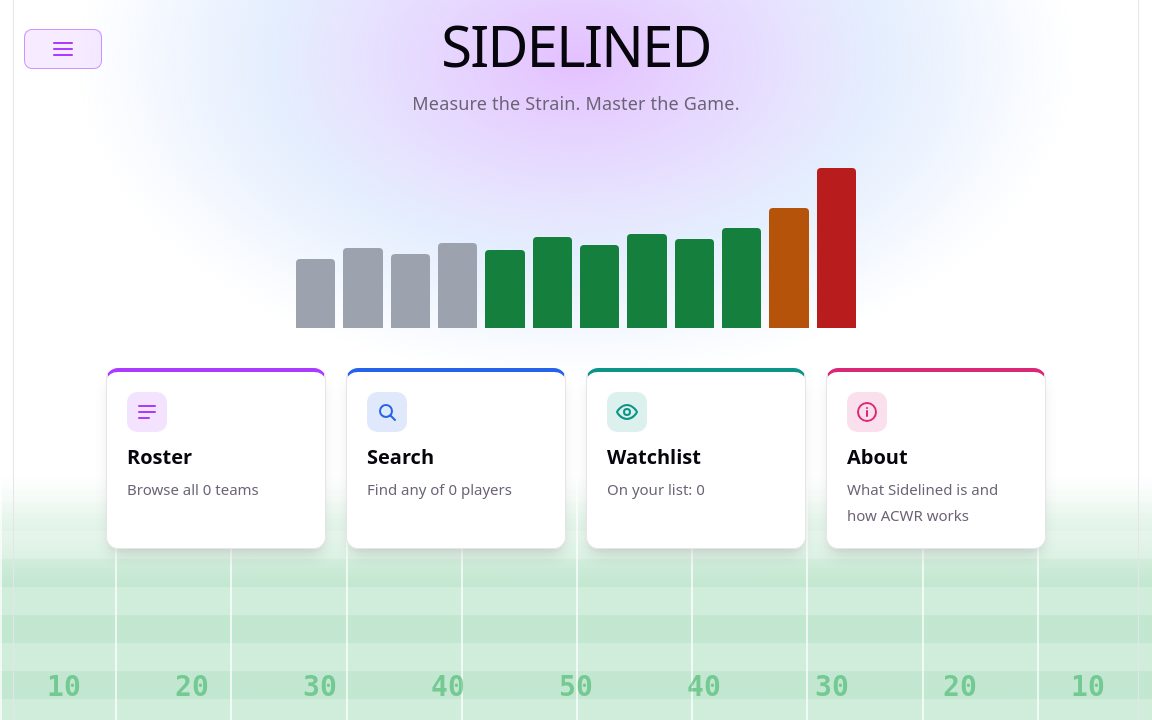
Test: homepage animation › doesn't delay the menu: it opens on the first click after load
Click the button named "Toggle navigation menu": click(63, 49) [24,29,102,69]
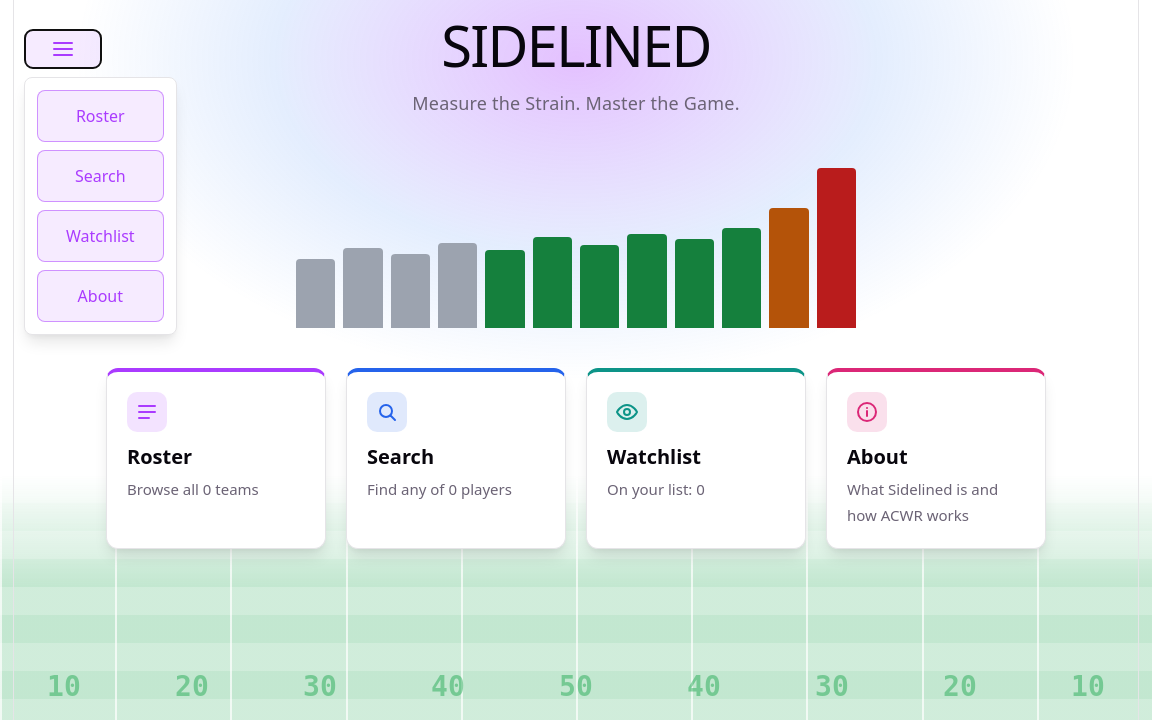
Expected: the menu item "Roster" is shown, [37,90,164,142]
